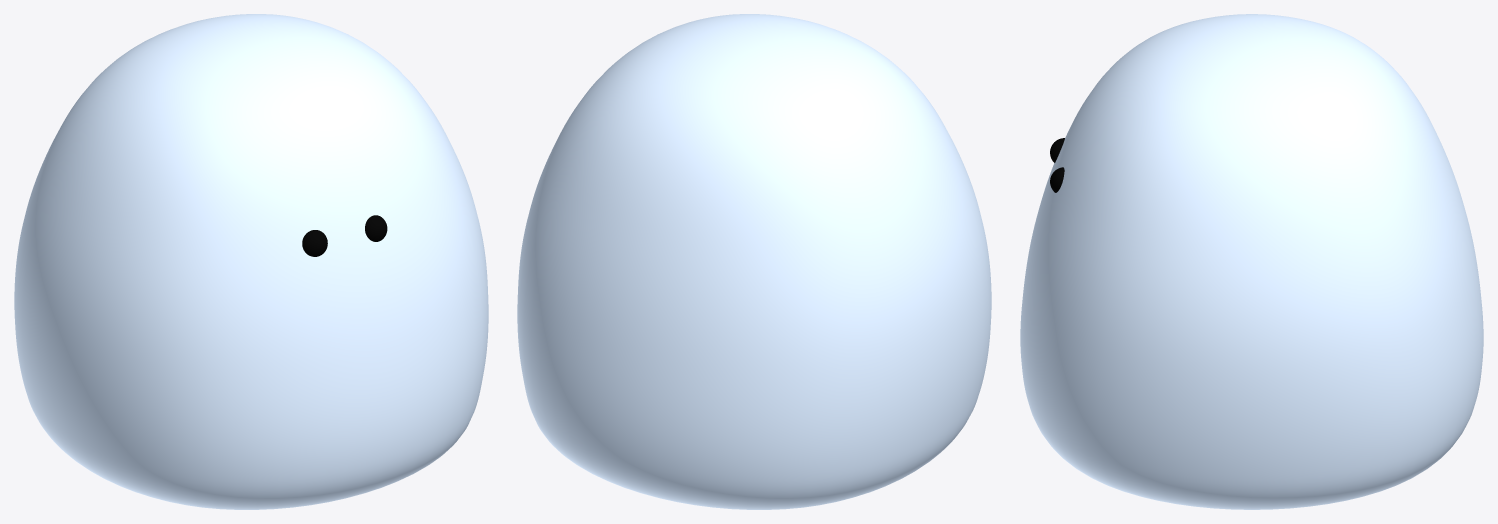
File: BaseBody.glb
3 views of the same model, side by side, from view 1: azimuth 30°, elevation 25°; view 2: azimuth 150°, elevation 25°; view 3: azimuth 270°, elevation 25° (orthographic).
Parts seen in each view (by area): view 1: Body, Sphere 2; view 2: Body; view 3: Body.
Boxes of the visible parts, <box> form: Body: <box>14,14,488,509</box>; Sphere 2: <box>302,230,327,256</box>; Body: <box>517,14,991,509</box>; Body: <box>1020,14,1483,509</box>.
Size of the model in its own units: 0.9659 by 0.9451 by 0.9562.
